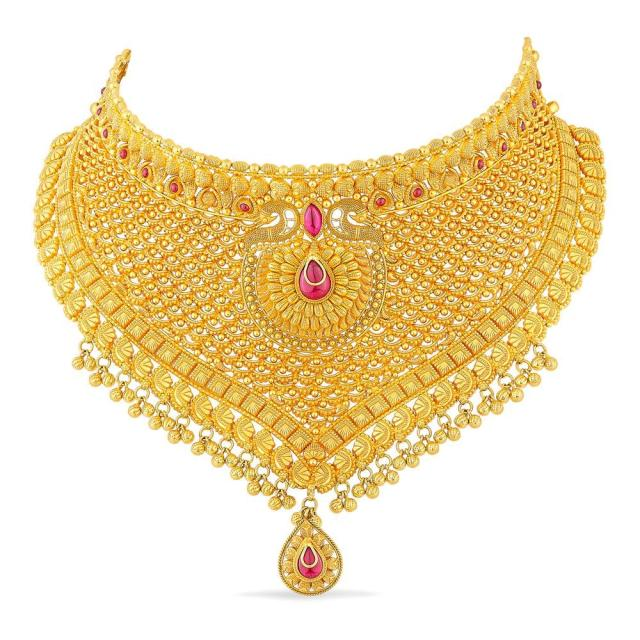missing gem: (203, 194, 213, 203), (447, 176, 455, 184)
